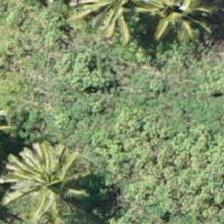coconut_tree: (2, 138, 92, 223), (64, 0, 154, 52), (133, 0, 223, 49)
